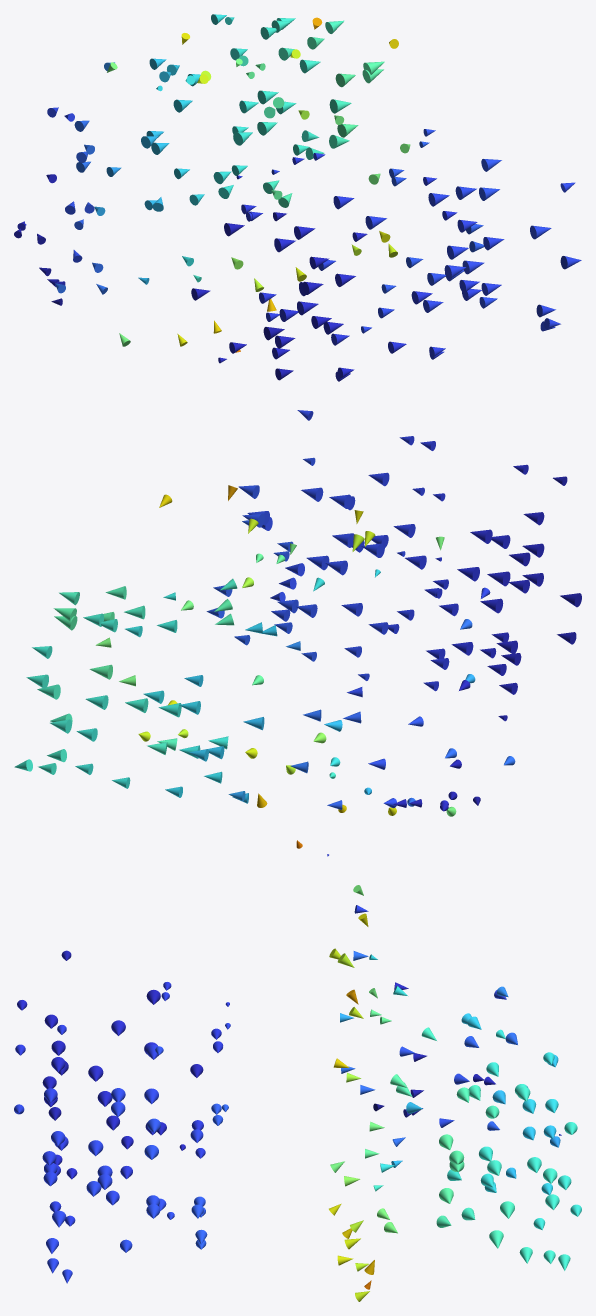
Rendered from LineasCorrienteN2-H2O_mh2-5.58_V-0.7.glb.
3 views of the same model, one above another, from view 1: azimuth 30°, elevation 25°; view 2: azimuth 150°, elevation 25°; view 3: azimuth 270°, elevation 25° (orthographic). The views are drawn at different scales.
Size of the model in its own units: 0.000985 by 0.00081 by 0.0012.
2 materials, 2 textured.
